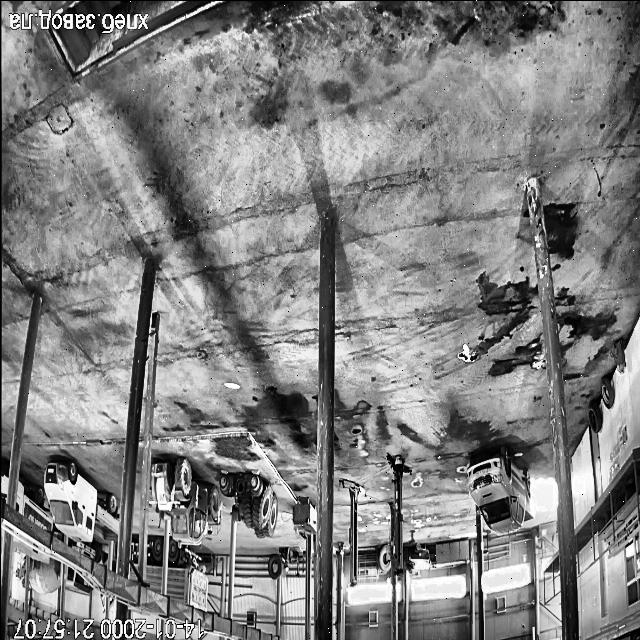car lift: (386, 454, 410, 574), (340, 479, 365, 586)
fire extinguisher: (616, 340, 624, 372)
tractor: (151, 458, 220, 544), (220, 474, 278, 538)
truck: (44, 460, 119, 540), (467, 445, 531, 534), (167, 540, 208, 612), (16, 480, 52, 532), (27, 557, 60, 594), (146, 538, 163, 591), (12, 537, 48, 560), (66, 567, 92, 595), (69, 542, 103, 563), (129, 541, 141, 580), (0, 466, 8, 500), (17, 564, 24, 583), (129, 566, 136, 580), (100, 596, 104, 608)
